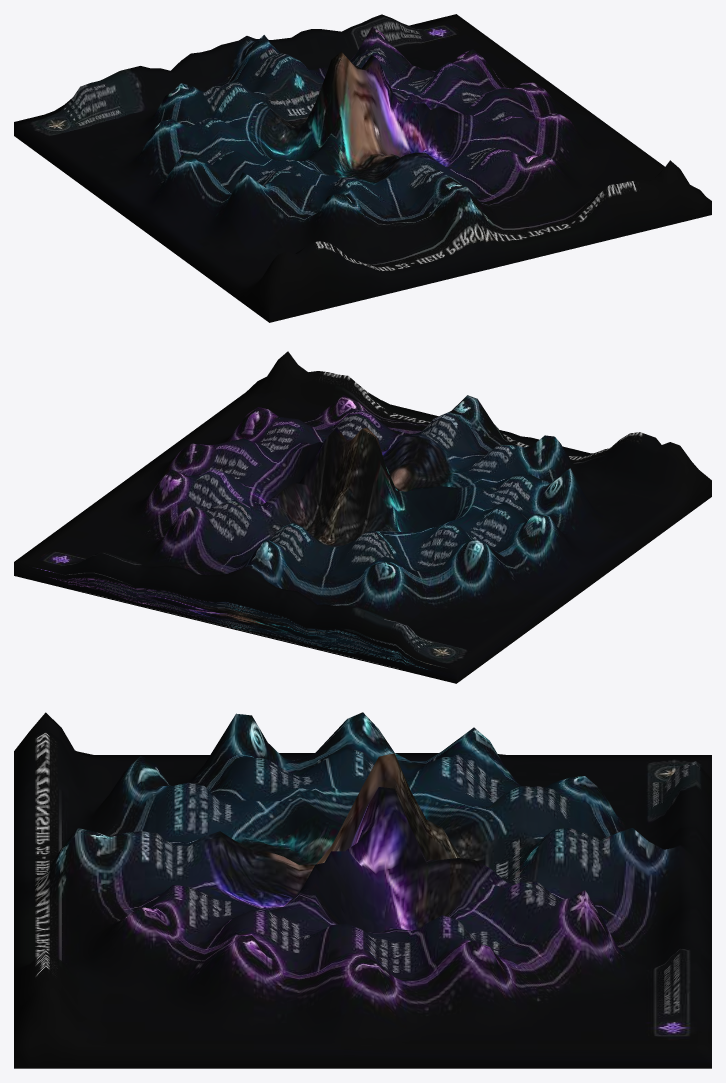
Rendered from RELATIONSHIP_25_Heir_Personality.glb.
3 renders of one model, top to bottom at view 1: azimuth 30°, elevation 25°; view 2: azimuth 150°, elevation 25°; view 3: azimuth 270°, elevation 25°, orthographic. The views are drawn at different scales.
Parts seen in each view (by area): view 1: RELATIONSHIP_25_Heir_Personality; view 2: RELATIONSHIP_25_Heir_Personality; view 3: RELATIONSHIP_25_Heir_Personality.
Boxes of the visible parts, left/top/right/bottom form: RELATIONSHIP_25_Heir_Personality: left=14, top=14, right=711, bottom=322; RELATIONSHIP_25_Heir_Personality: left=14, top=351, right=711, bottom=683; RELATIONSHIP_25_Heir_Personality: left=14, top=712, right=711, bottom=1068.
Size of the model in its own units: 2 by 0.51 by 2.
Materials: 1 (1 with a texture image).
